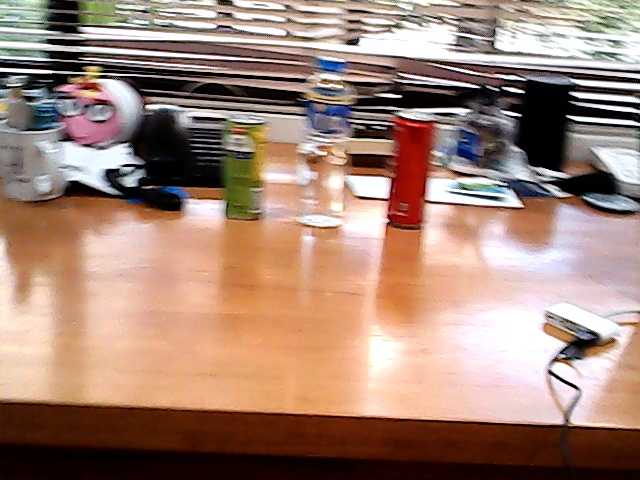Cola: (374, 103, 443, 244)
Pine Juice: (209, 107, 277, 233)
Summit Water: (290, 44, 361, 242)
